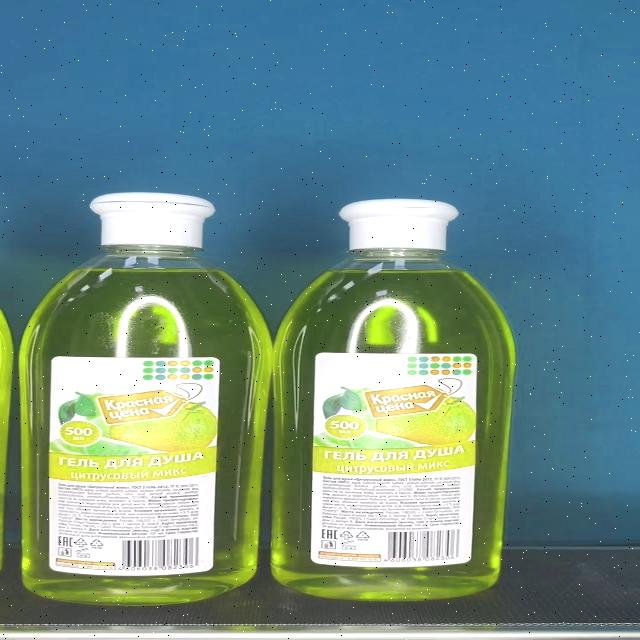Bottle: (20, 192, 270, 604), (276, 198, 516, 600)
Cap: (90, 192, 215, 248), (336, 200, 458, 252)
